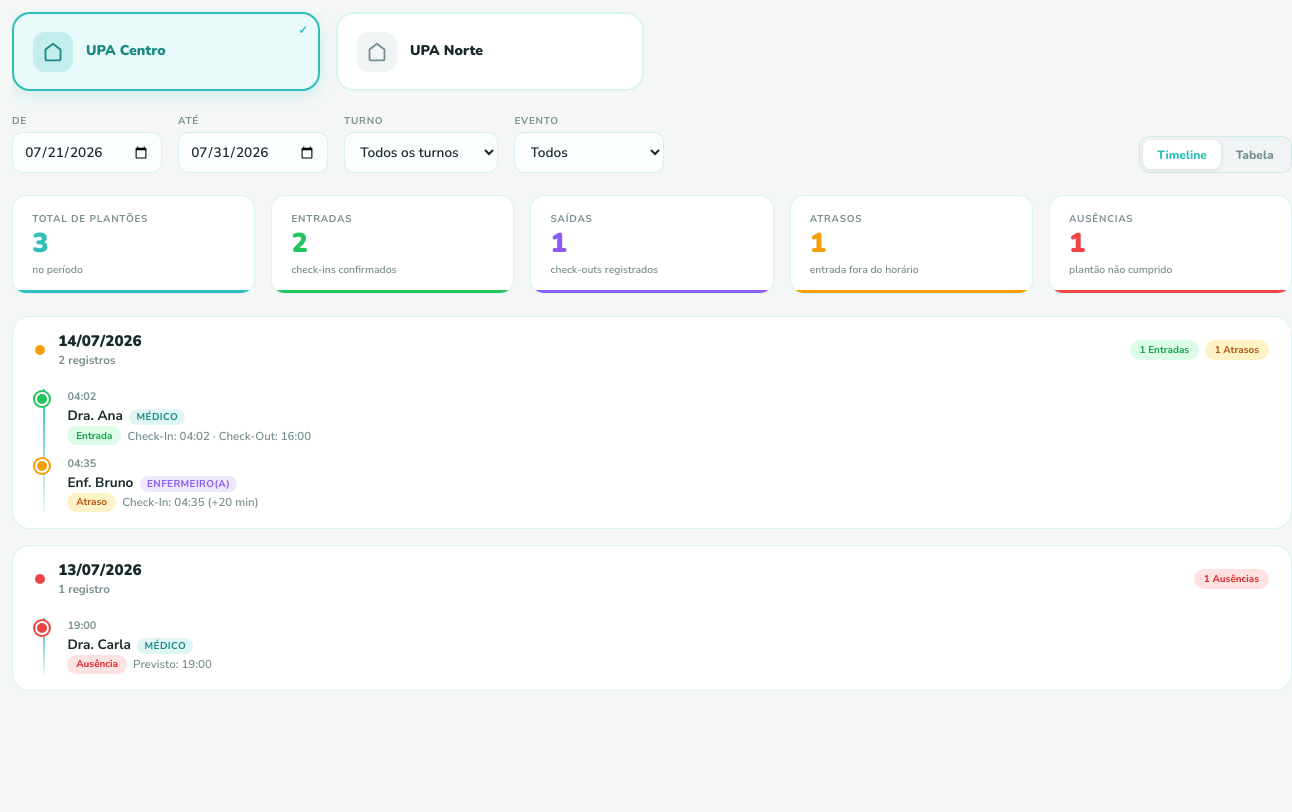
Test case: <PrefeituraHistorico /> › alternar pra visão "Tabela" renderiza a tabela com colunas esperadas
expect the text "Dra. Ana" is shown: met, box [67,406,123,425]
Click the button "Tabela" at (1255, 155), box [1221,140,1288,169]
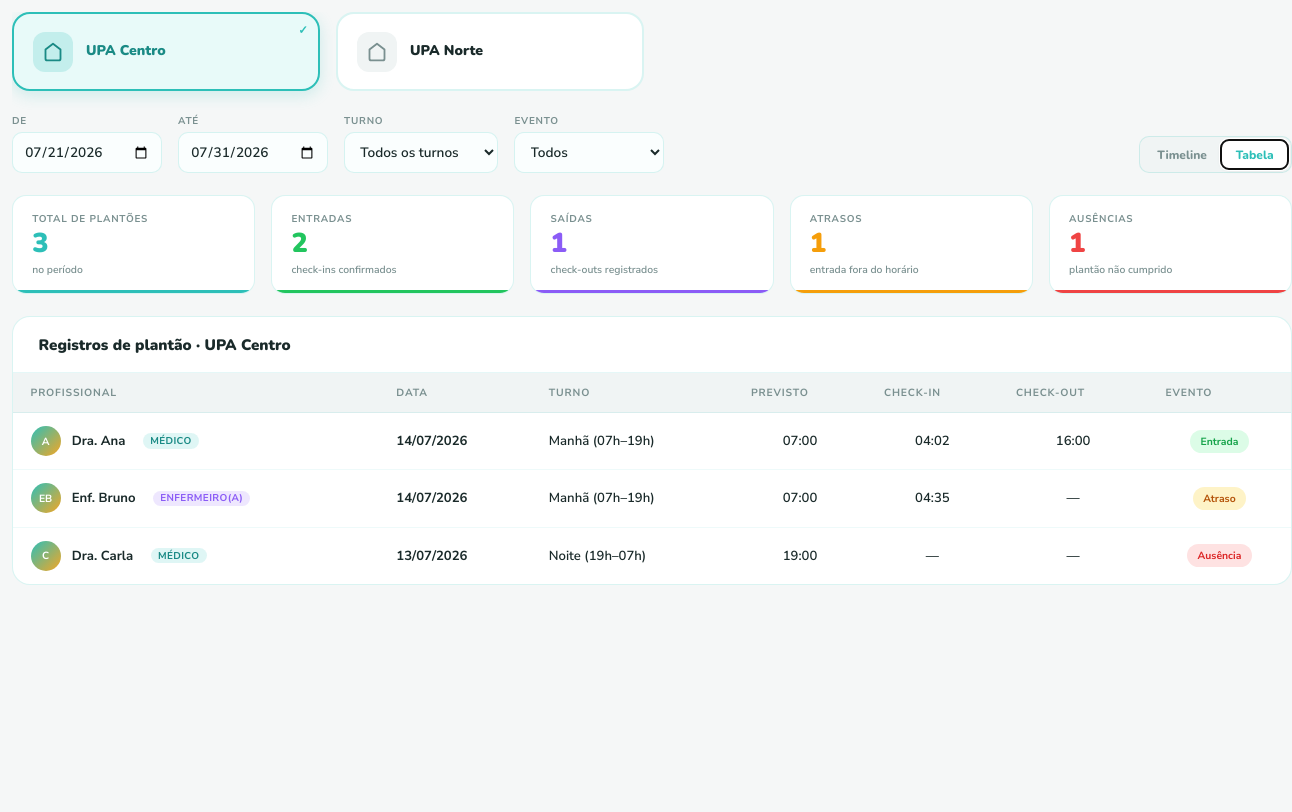
expect the table is shown: met, box [13,373,1291,584]
expect the column heading "Profissional" is shown: met, box [13,373,379,413]
expect the column heading "Data" is shown: met, box [379,373,531,413]
